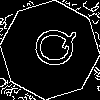Q: (25, 25, 77, 69)
